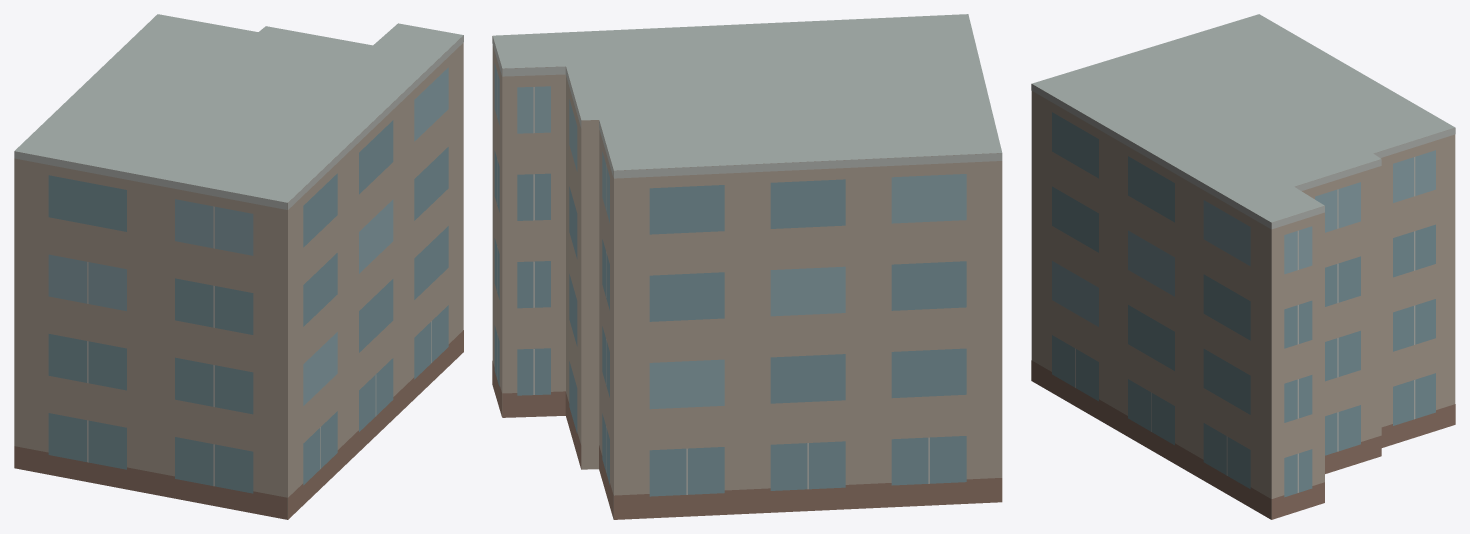
The model's file is survey-upis-32995966.glb.
3 renders of one model, left to right at view 1: azimuth 30°, elevation 25°; view 2: azimuth 150°, elevation 25°; view 3: azimuth 270°, elevation 25°, orthographic. The views are drawn at different scales.
Visible parts, largest first — view 1: survey-upis-32995966.tmp; view 2: survey-upis-32995966.tmp; view 3: survey-upis-32995966.tmp.
Boxes of the visible parts, x1=… form: survey-upis-32995966.tmp: x1=14, y1=14, x2=463, y2=519; survey-upis-32995966.tmp: x1=492, y1=14, x2=1002, y2=519; survey-upis-32995966.tmp: x1=1031, y1=14, x2=1455, y2=519.
Bounding box in the file's own units: 15.97 × 10.6 × 13.71.
